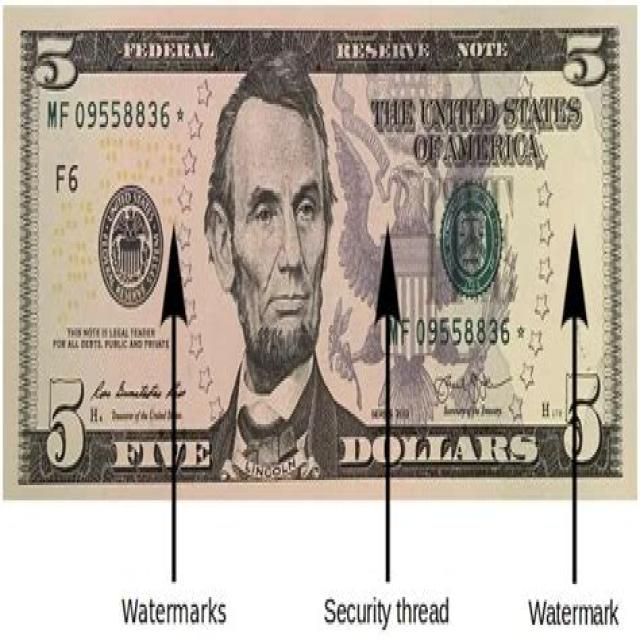Five: (2, 0, 640, 503)
